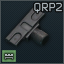Aimpoint QRP2 mount for CompM4%5PRO reflex sights: (0, 0, 64, 64)
